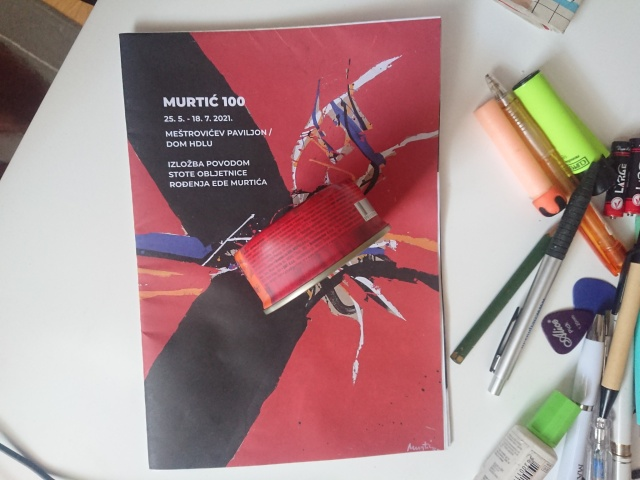Gavrilovic Pork Liver Pate 100g: (230, 173, 393, 320)
